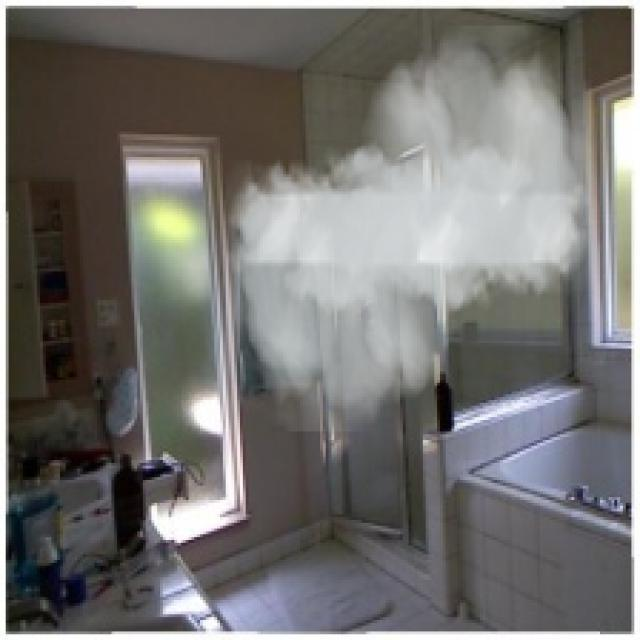Smoke: (226, 26, 592, 432)
